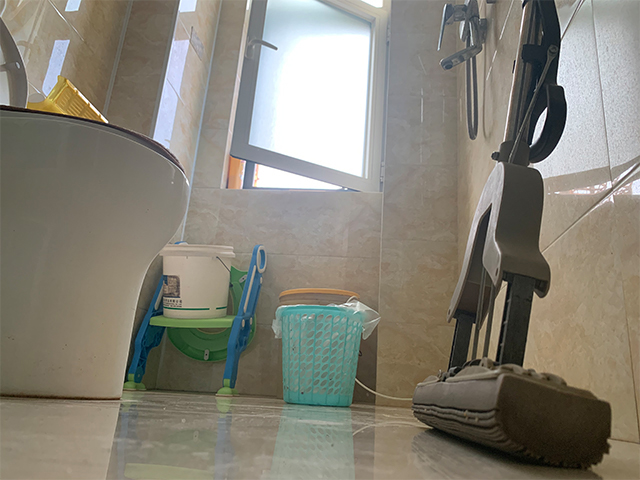closestool: (1, 16, 192, 402)
trashcan: (271, 297, 381, 408)
